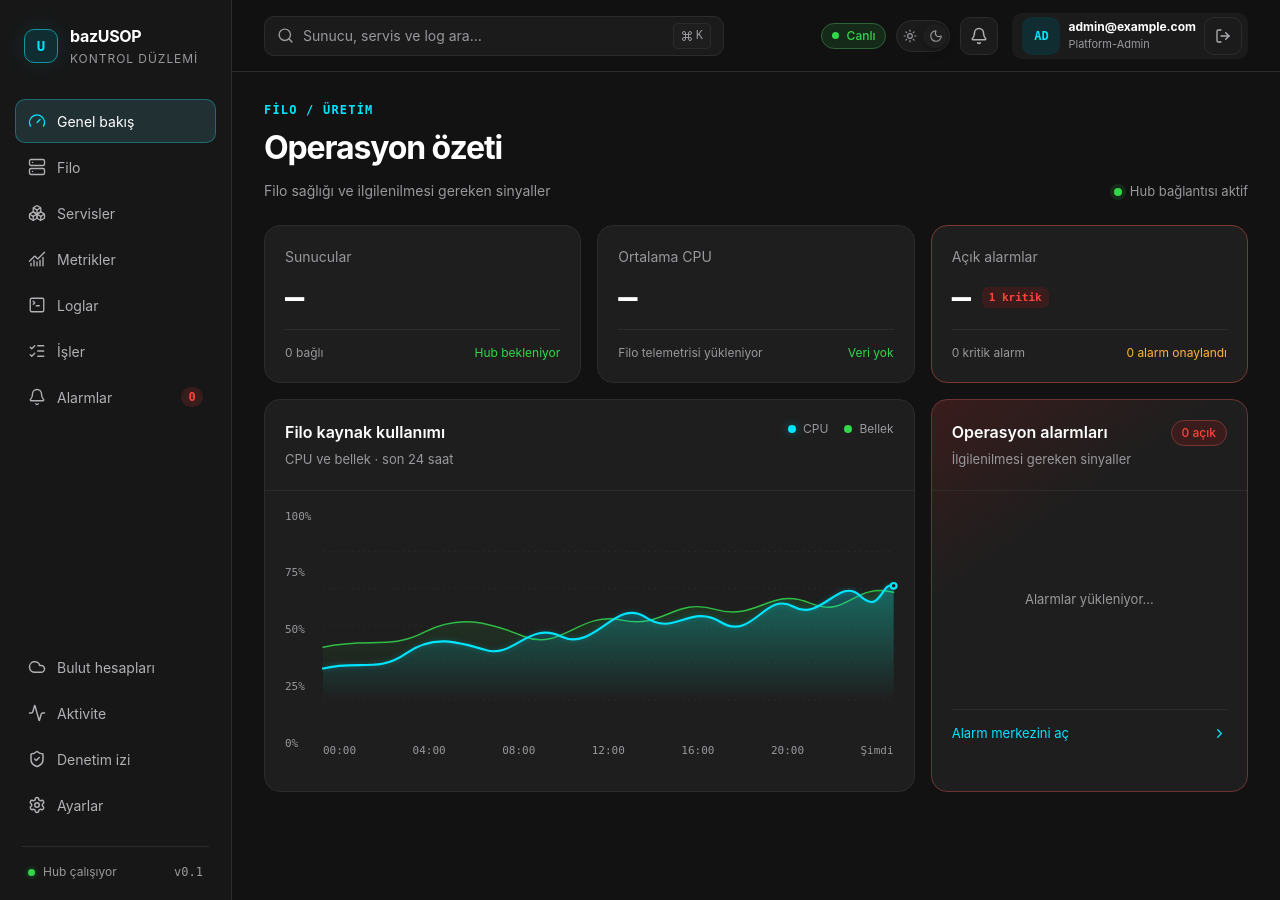
Scenario: bazUSOP shell › logs out and returns to the login page
Click the button named "Çıkış yap": point(1223, 36) [1204, 16, 1242, 54]
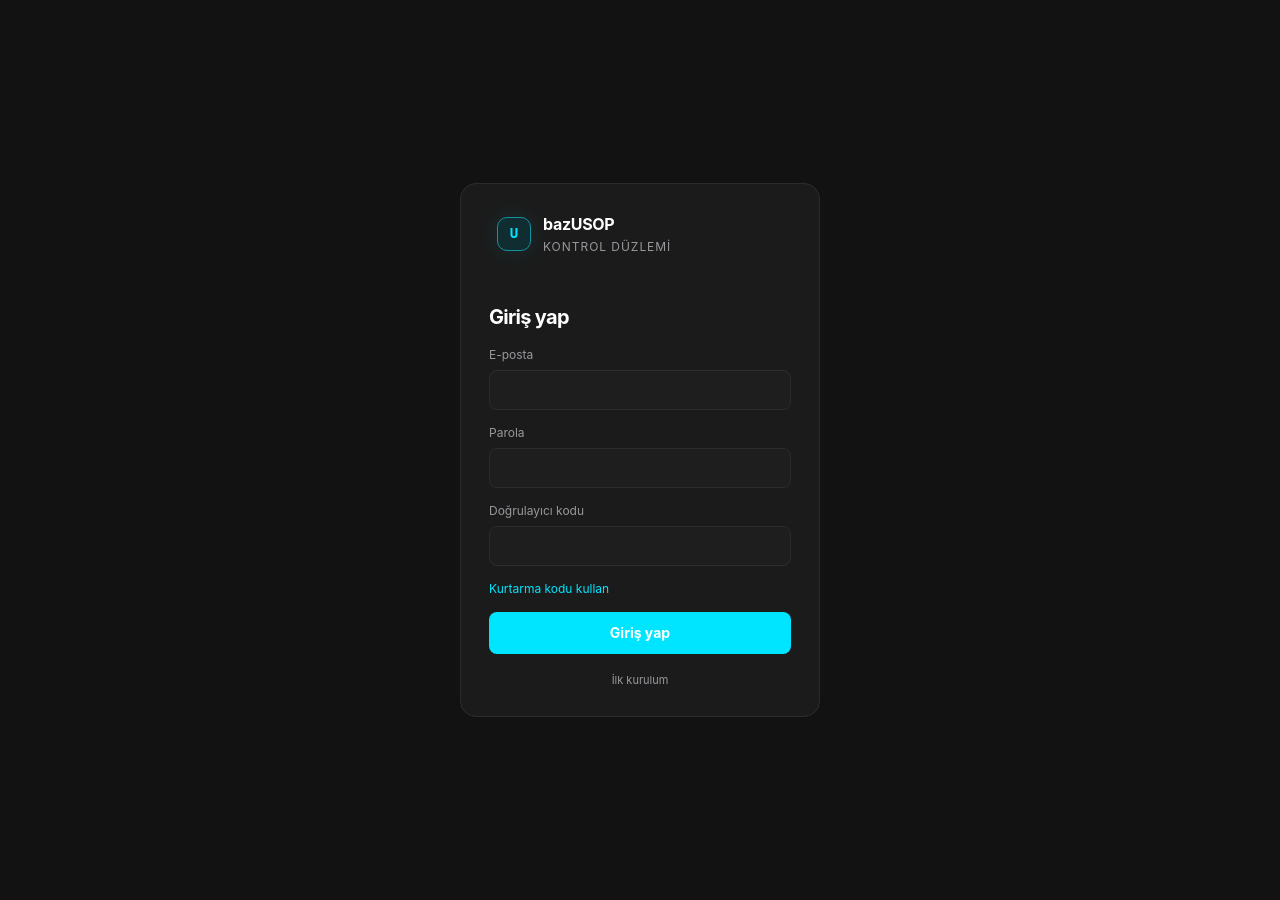
Expected: the heading "Giriş yap" is shown, [489, 305, 569, 329]
